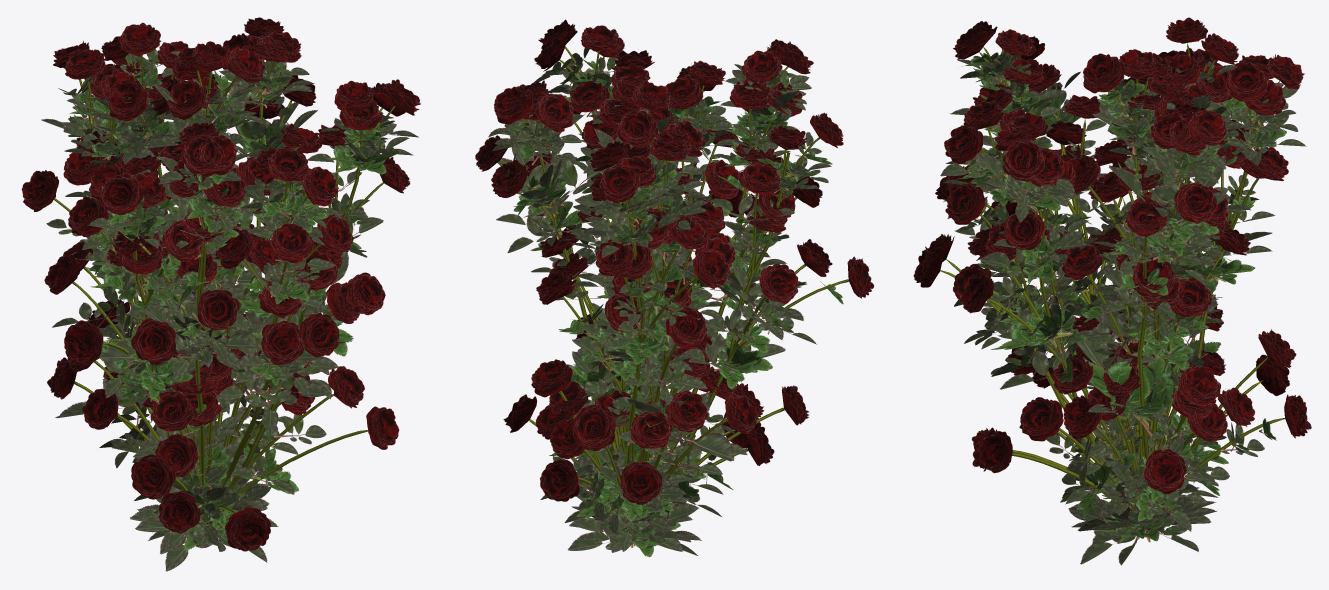
The model's file is rose_bush.glb.
The picture shows the model from 3 angles, left to right: view 1: azimuth 30°, elevation 25°; view 2: azimuth 150°, elevation 25°; view 3: azimuth 270°, elevation 25°; orthographic projection. The views are drawn at different scales.
Parts seen in each view (by area): view 1: Object_2, Object_3, Object_4; view 2: Object_2, Object_3, Object_4; view 3: Object_3, Object_2, Object_4.
Boxes of the visible parts, x1,y1,x2,y2 form: Object_2: (21,17,420,551); Object_3: (41,49,418,571); Object_4: (54,55,395,514); Object_2: (475,19,874,504); Object_3: (488,48,843,557); Object_4: (500,46,848,510); Object_3: (940,51,1306,565); Object_2: (913,17,1311,494); Object_4: (940,43,1284,512).
Size of the model in its own units: 1.47 by 2.03 by 1.46.
Materials: 3 (3 with a texture image).
